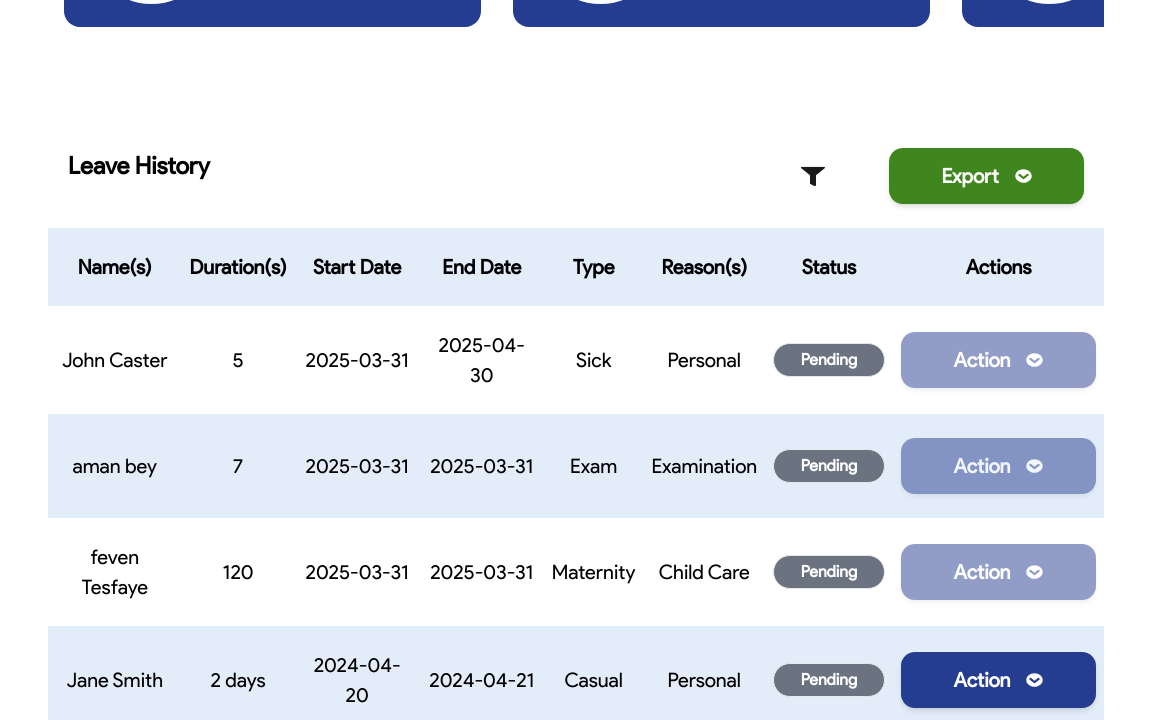
Scenario: LeaveApplication › should display the leave table and allow action dropdown
(page scrolled)
Click the button "Action" in the row of "John Caster" at (998, 360), box [901, 332, 1096, 388]
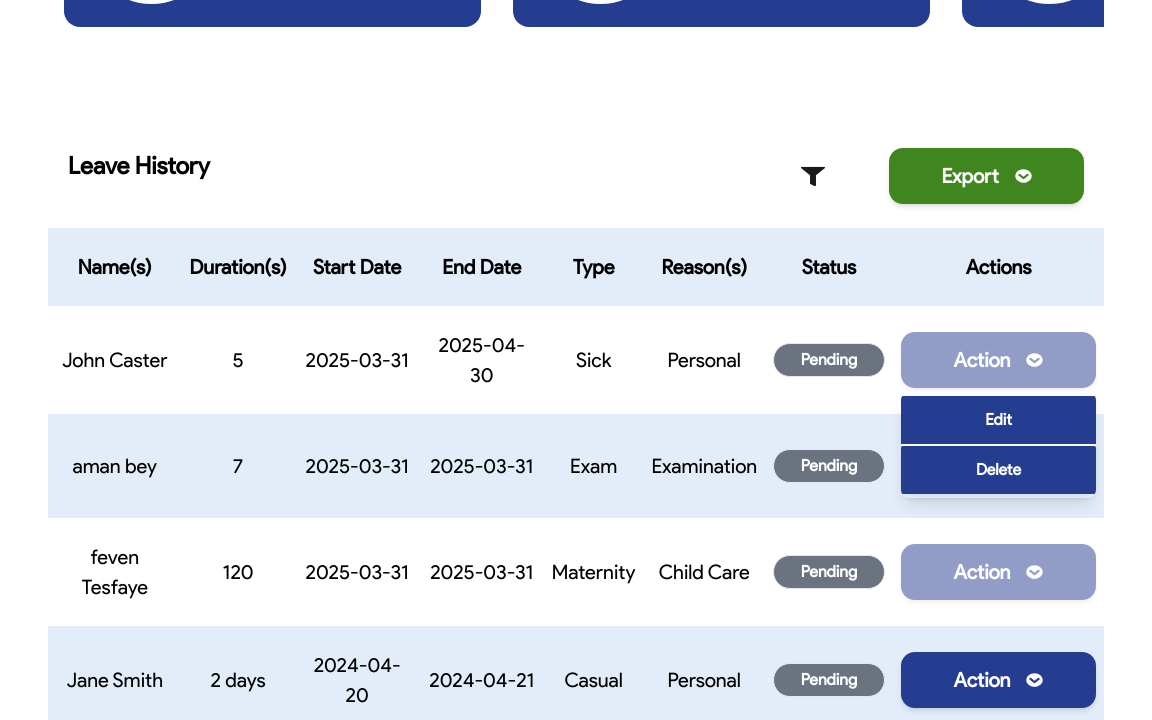
Expected: the menu item "Edit" is shown, [901, 396, 1096, 446]
Expected: the menu item "Delete" is shown, [901, 446, 1096, 494]
